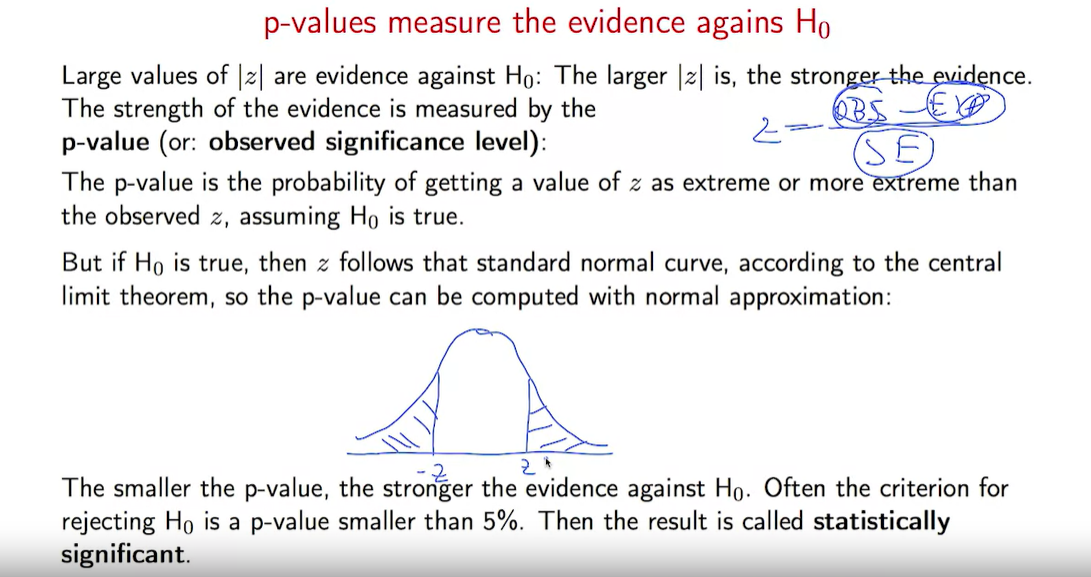figure: (343, 324, 620, 480)
text: (53, 473, 1010, 568), (49, 62, 1035, 128), (59, 249, 1009, 310), (56, 170, 1017, 229), (256, 2, 835, 41), (55, 131, 552, 156)
